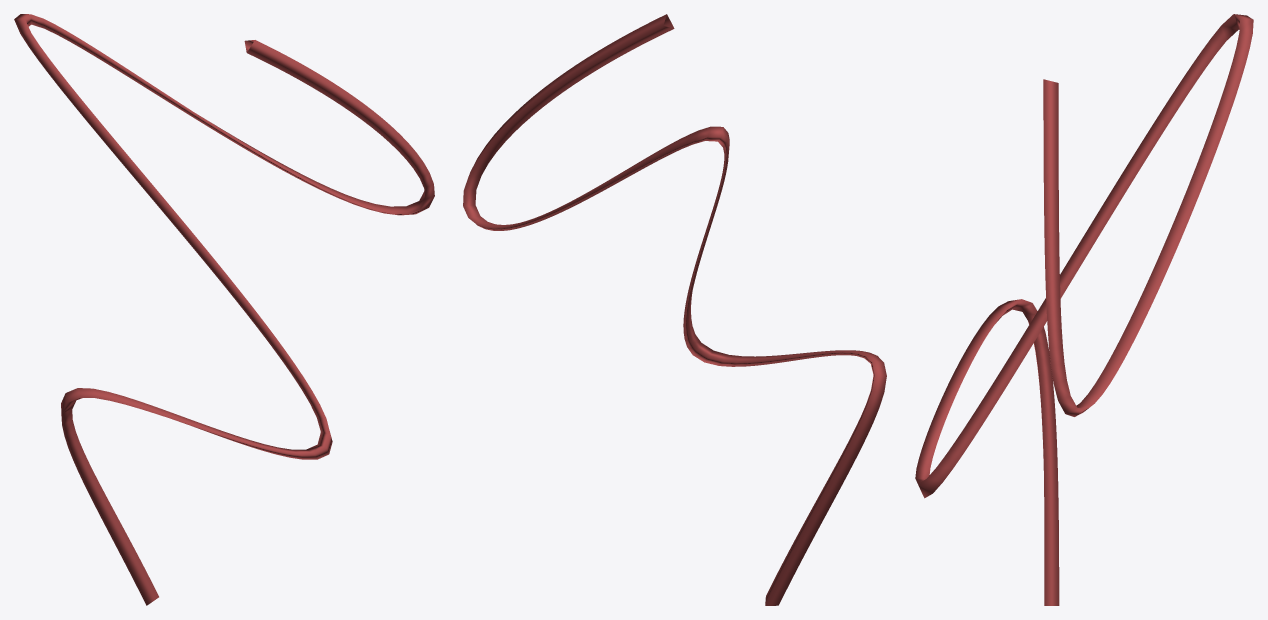
File: wireFourWild.fbx
3 views of the same model, side by side, from view 1: azimuth 30°, elevation 25°; view 2: azimuth 150°, elevation 25°; view 3: azimuth 270°, elevation 25° (orthographic). The views are drawn at different scales.
Visible parts, largest first — view 1: extrudedSurface14; view 2: extrudedSurface14; view 3: extrudedSurface14.
Boxes of the visible parts, x1=… form: extrudedSurface14: x1=14, y1=14, x2=434, y2=605; extrudedSurface14: x1=463, y1=14, x2=886, y2=605; extrudedSurface14: x1=915, y1=14, x2=1253, y2=605.
Bounding box in the file's own units: 37.75 × 50.32 × 26.44.
